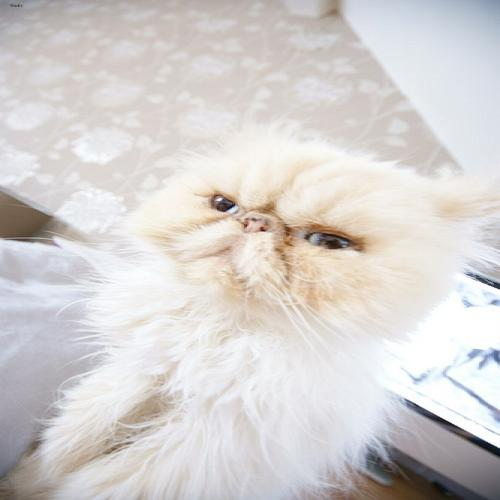persian: (124, 117, 490, 352)
